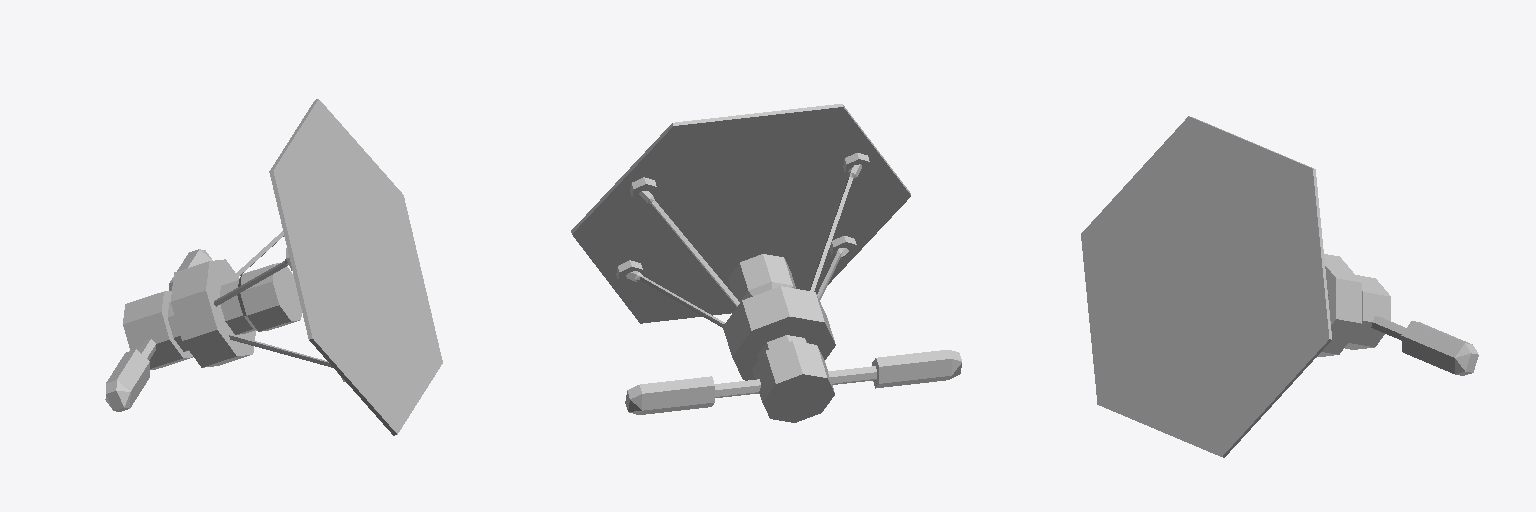
The model's file is stg300_MotReflector_d1_04.obj.
3 views of the same model, side by side, from view 1: azimuth 30°, elevation 25°; view 2: azimuth 150°, elevation 25°; view 3: azimuth 270°, elevation 25° (orthographic).
Visible parts, largest first — view 1: polygon3, polygon2, polygon1, polygon0; view 2: polygon2, polygon3, polygon1, polygon0; view 3: polygon3, polygon2, polygon1.
Part boxes in pixels (x1,y1,x2,y2): polygon3: (278,107,438,425); polygon2: (171,99,442,435); polygon1: (105,249,301,409); polygon0: (106,249,198,411); polygon2: (571,104,910,380); polygon3: (652,120,830,310); polygon1: (628,254,961,422); polygon0: (625,350,961,409); polygon3: (1087,125,1322,448); polygon2: (1081,116,1361,457); polygon1: (1345,275,1470,374).
Size of the model in its own units: 325 by 227 by 325.